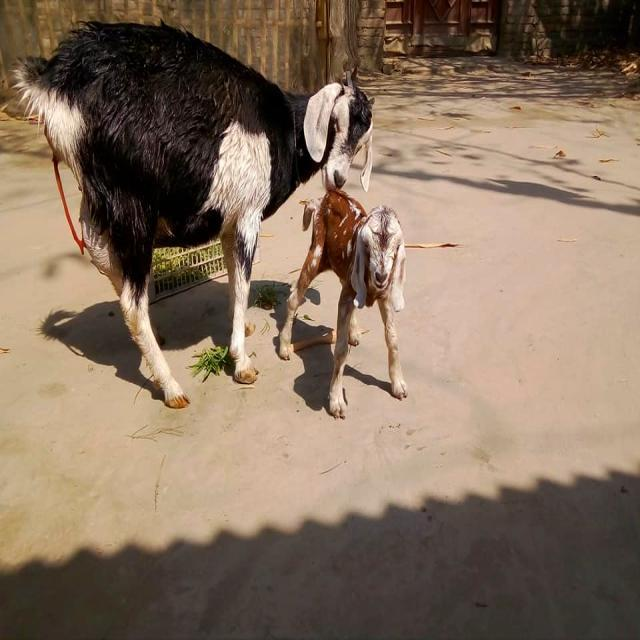Goat: (11, 17, 375, 409), (277, 187, 409, 420)
